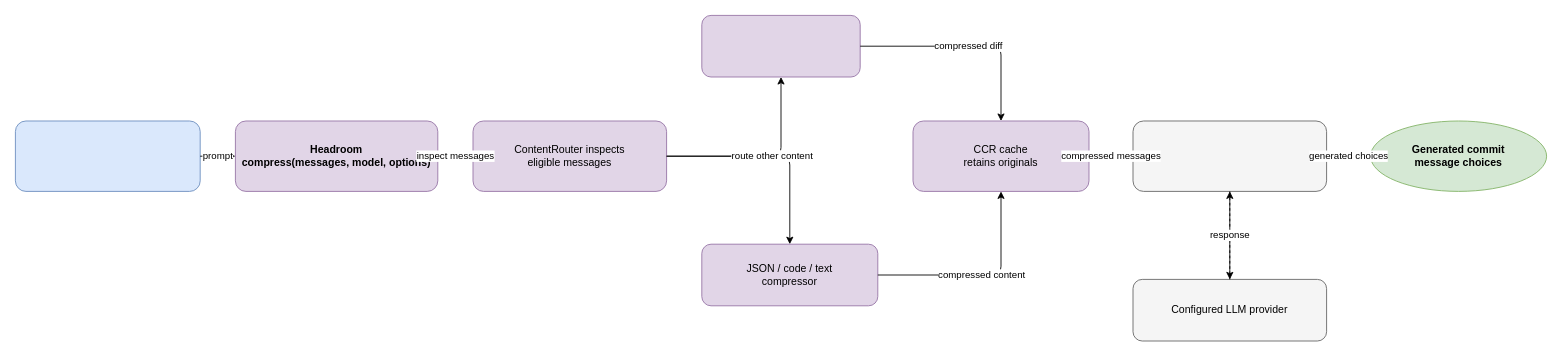
Some shapes in this 1562 by 356 pixel diagram are drawn without their labels. Here are the shapes that lost their labels. From the top down, the box of each, then its label:
(701, 15, 860, 77): Diff compressor
(15, 120, 200, 191): Load prompt & append staged diff
(1132, 120, 1327, 191): LiteLLM completion (compressed messages)
